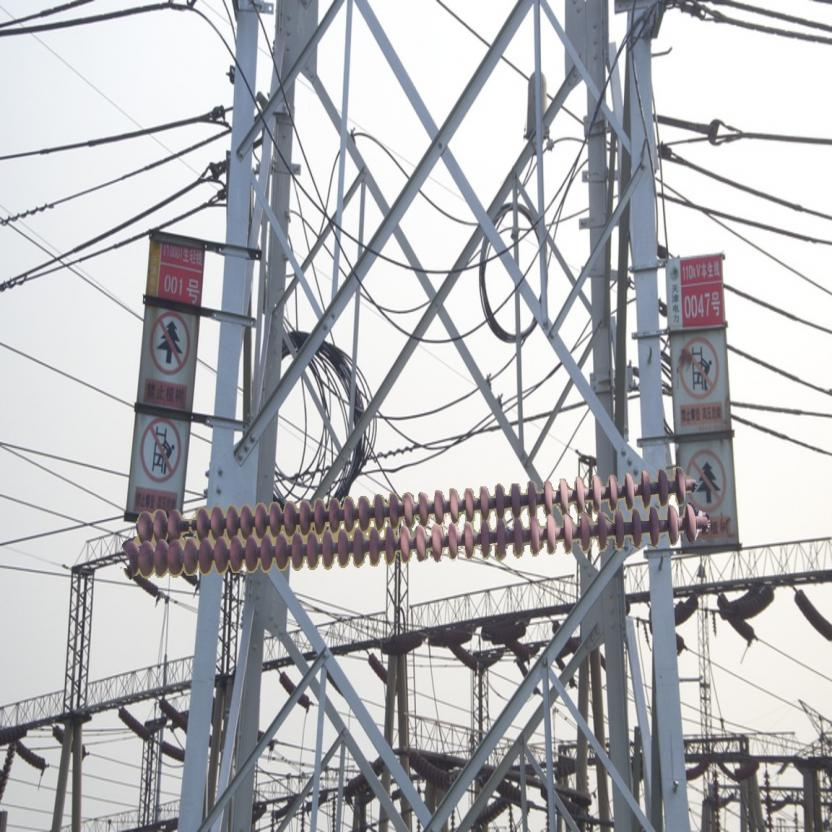defect: (166, 506, 210, 543)
